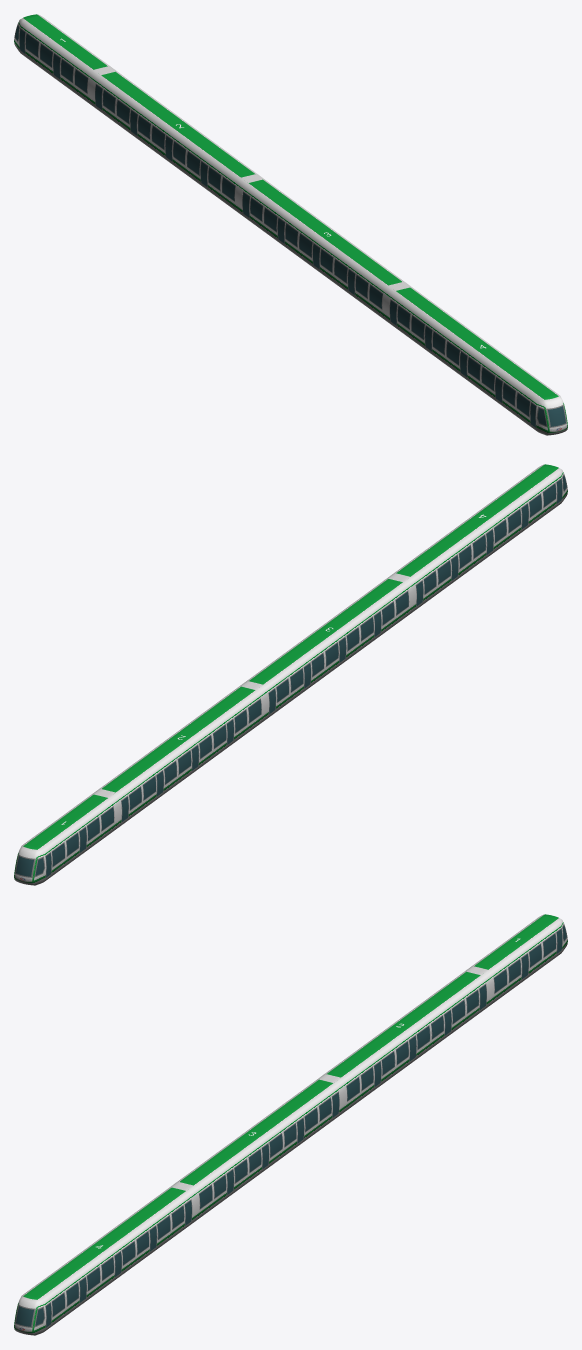
File: metro.glb
3 renders of one model, top to bottom at view 1: azimuth 30°, elevation 25°; view 2: azimuth 150°, elevation 25°; view 3: azimuth 330°, elevation 25°, orthographic.
Visible parts, largest first — view 1: 对象001; view 2: 对象001; view 3: 对象001.
Part boxes in pixels (x1,y1,x2,y2): 对象001: (14,14,567,435); 对象001: (14,464,567,885); 对象001: (14,914,567,1335).
Size of the model in its own units: 2.24 by 2.62 by 76.88.
Materials: 6 (2 with a texture image).
